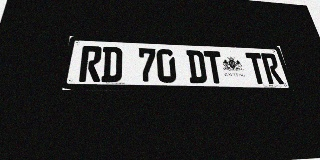0: (156, 49, 177, 83)
7: (137, 48, 157, 83)
D: (101, 47, 122, 82), (186, 50, 208, 83)
R: (78, 46, 102, 82), (260, 53, 284, 84)
T: (245, 52, 268, 84), (203, 51, 225, 83)
